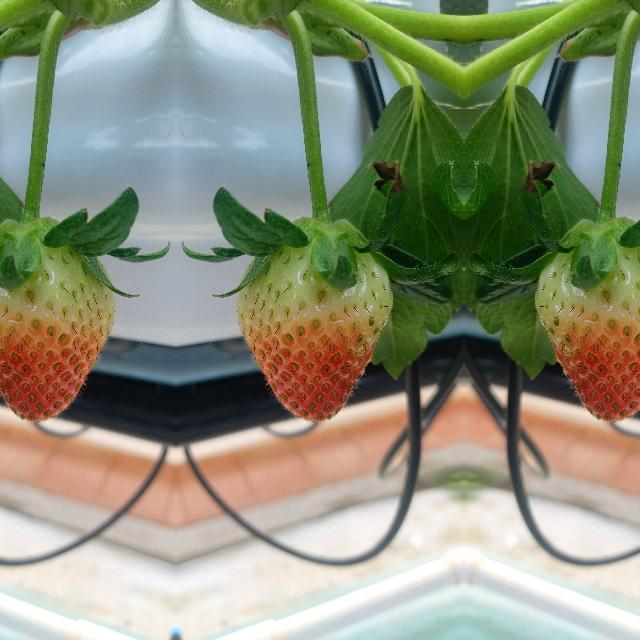Health_75: (234, 238, 394, 426), (0, 238, 116, 426), (532, 238, 640, 426)
